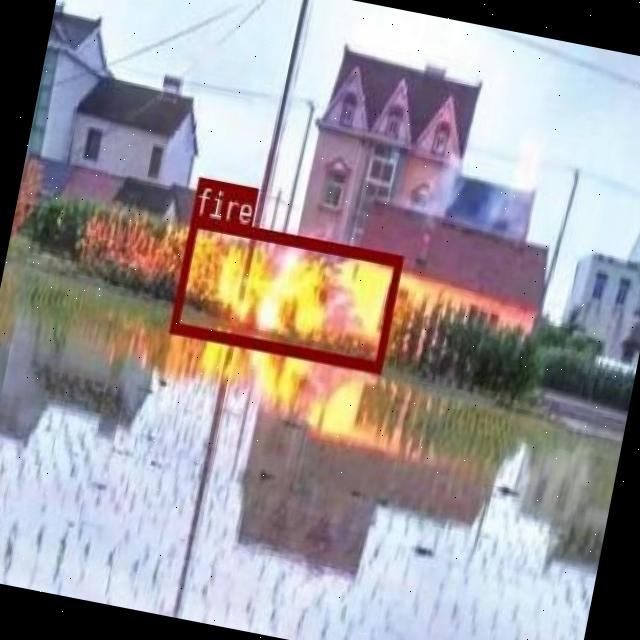fire: (168, 212, 404, 370)
